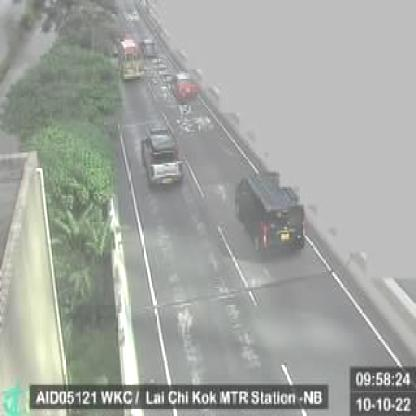Car: (235, 171, 307, 257), (138, 126, 186, 190), (173, 70, 199, 100), (142, 34, 158, 55)
Minibus: (121, 37, 145, 81)
